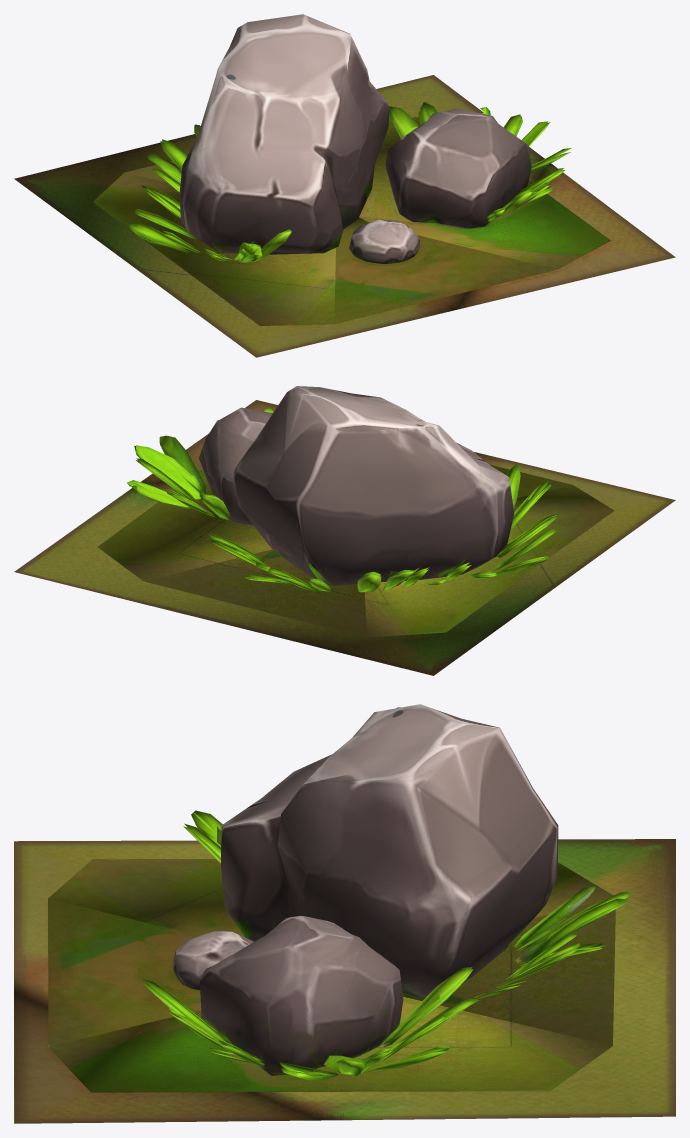
The model's file is etapa50.glb.
3 renders of one model, top to bottom at view 1: azimuth 30°, elevation 25°; view 2: azimuth 150°, elevation 25°; view 3: azimuth 270°, elevation 25°, orthographic. The views are drawn at different scales.
Size of the model in its own units: 1 by 0.4177 by 1.
1 material, 1 textured.
